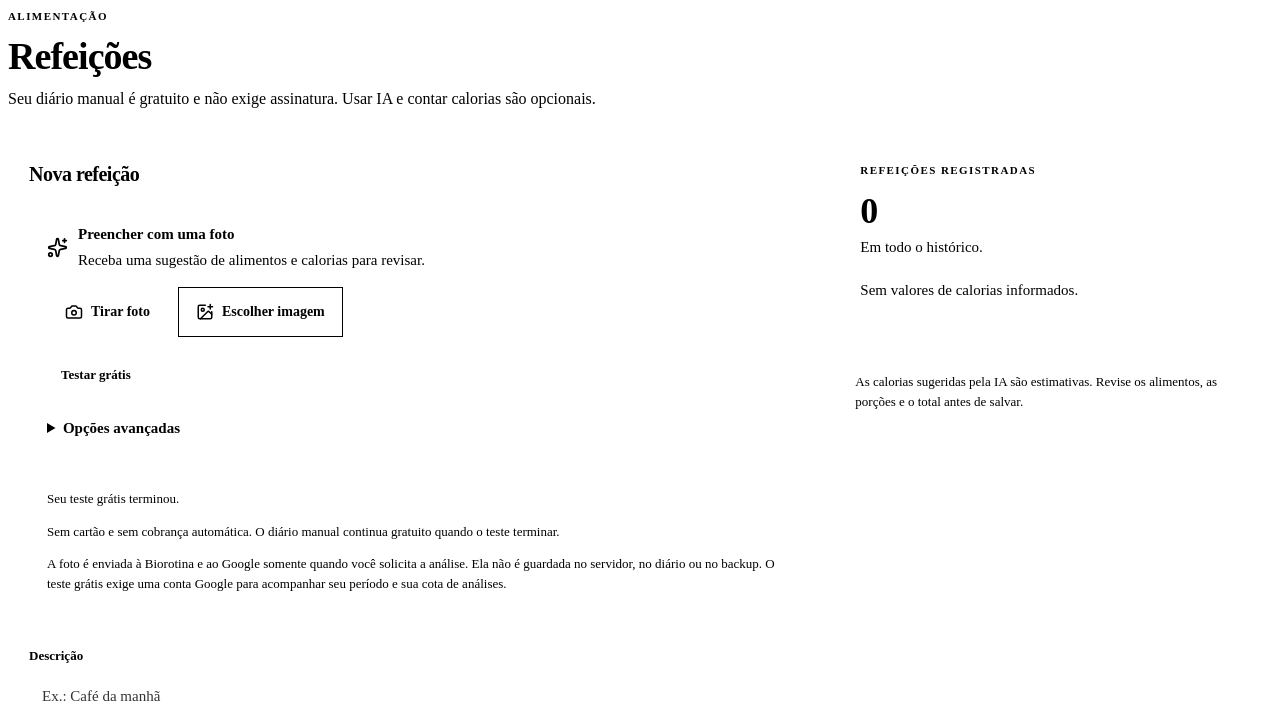
Test: refeição por foto › impede análise após o vencimento mesmo com cota diária restante
Expected: the button "Testar grátis" is shown, [47,353,145,397]
Expected: the text "Seu teste grátis terminou." is shown, [47,491,179,506]
Click the file field "Tirar foto": (108, 312) [65,303,150,321]
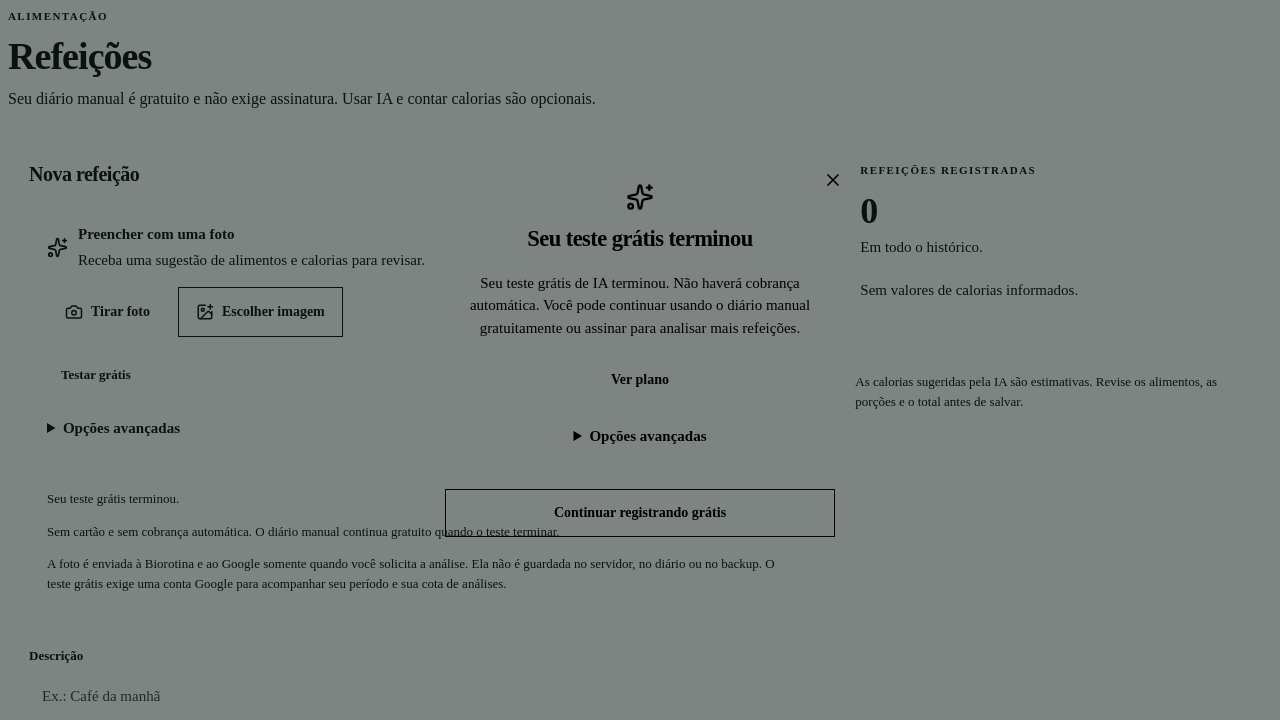
Expected: the dialog "Seu teste grátis terminou" is shown, [421,159,859,561]
